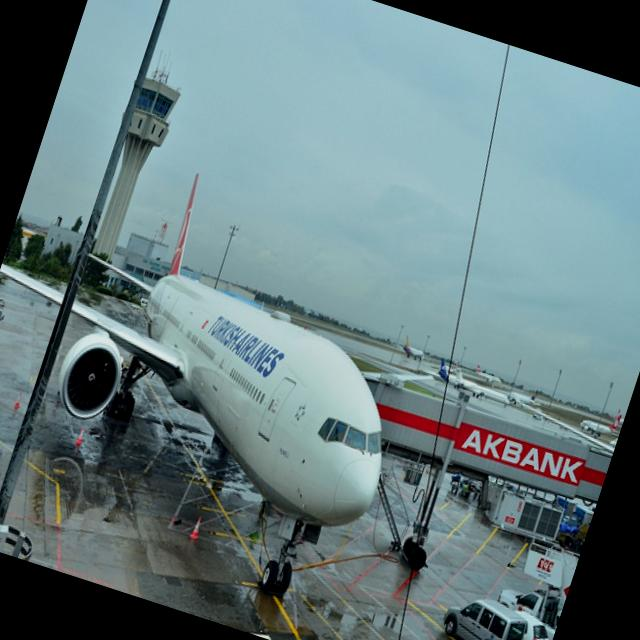Vehicle: (433, 586, 536, 640), (483, 574, 567, 640), (500, 608, 556, 640), (0, 290, 11, 336)
